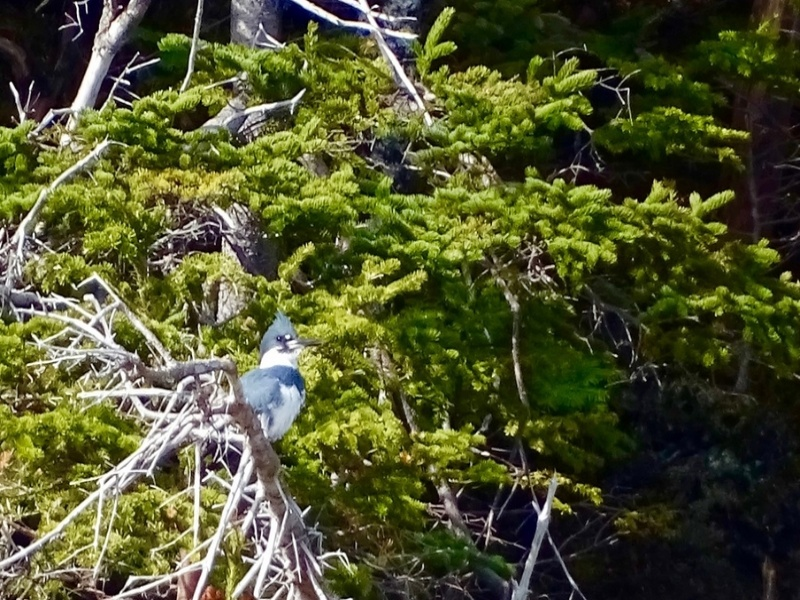kingfisher: (233, 306, 313, 448)
